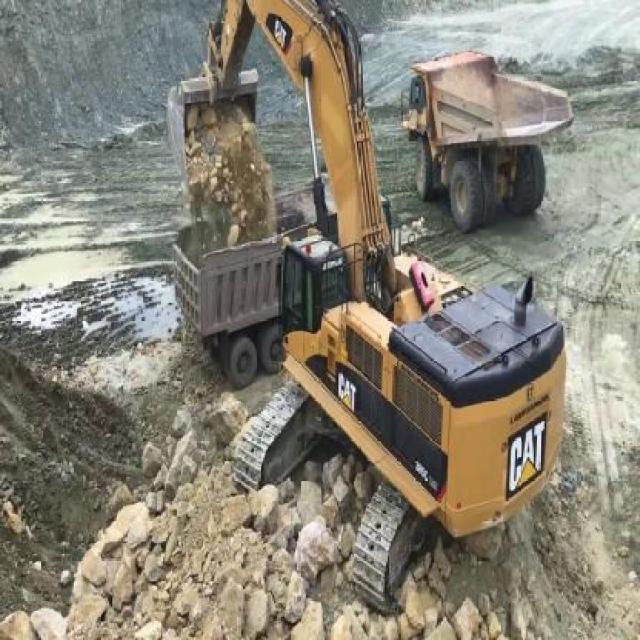Dump Truck: (396, 42, 575, 232), (170, 210, 312, 385)
Excavator: (164, 0, 570, 617)
